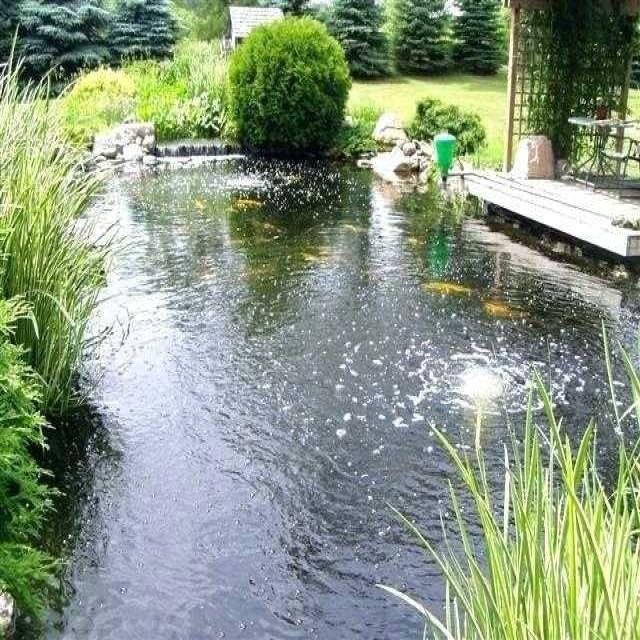Ponds: (51, 148, 640, 638)
